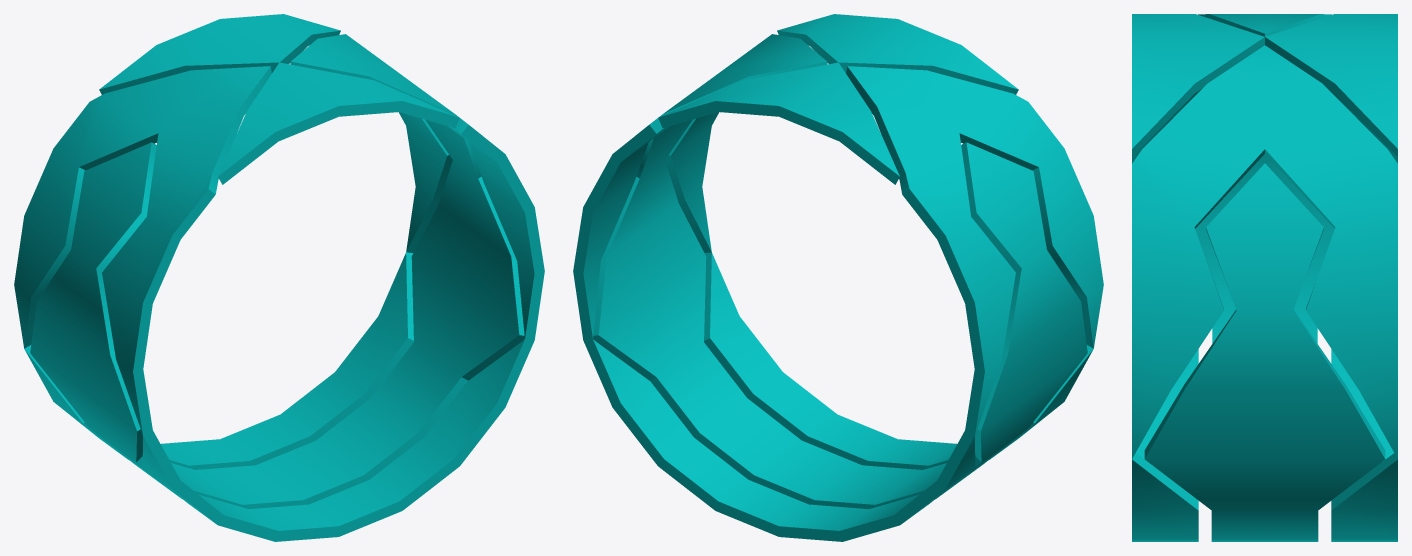
Rendered from Watch_FBX.fbx.
3 views of the same model, side by side, from view 1: azimuth 30°, elevation 25°; view 2: azimuth 150°, elevation 25°; view 3: azimuth 270°, elevation 25° (orthographic). The views are drawn at different scales.
Parts seen in each view (by area): view 1: Ring, Right_Triangle, Left_Triangle; view 2: Ring, Left_Triangle, Right_Triangle; view 3: Ring, Left_Triangle, Right_Triangle.
Part boxes in pixels (bbox=[...]): Ring: bbox=[14, 34, 544, 541]; Right_Triangle: bbox=[218, 62, 459, 184]; Left_Triangle: bbox=[99, 14, 340, 94]; Ring: bbox=[573, 34, 1103, 541]; Left_Triangle: bbox=[658, 62, 899, 184]; Right_Triangle: bbox=[777, 14, 1018, 94]; Ring: bbox=[1132, 14, 1397, 541]; Left_Triangle: bbox=[1265, 14, 1397, 156]; Right_Triangle: bbox=[1132, 14, 1264, 156].
Size of the model in its own units: 2 by 2 by 1.
